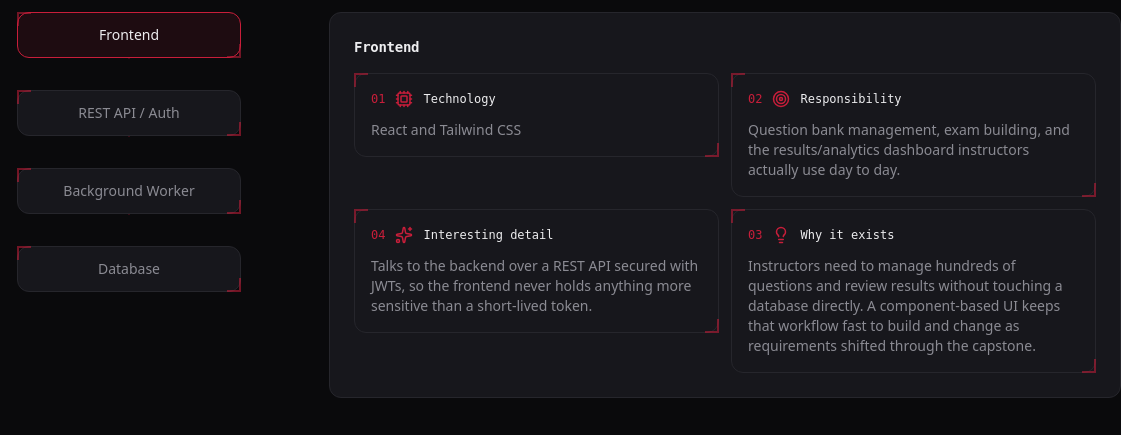
Test: ArchitectureMap › updates the detail panel when a different node is clicked
This screenshot has width=1121, height=435.
What coordinates should you click on to do the following:
click the button "REST API / Auth"
I would click on:
 (129, 113)
Its box is [17, 90, 241, 136].
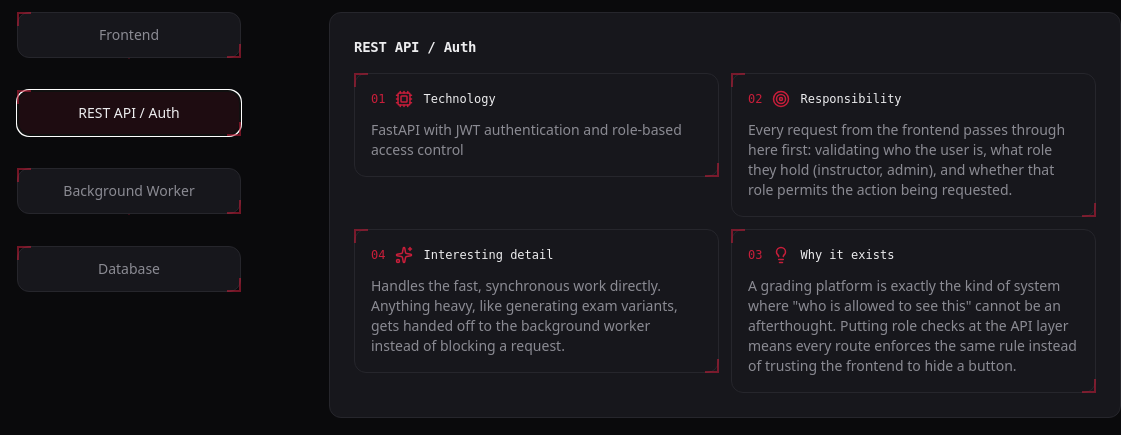
expect the text "FastAPI with JWT authentication and role-based access control" is shown: met, box [371, 120, 702, 160]
expect the text "Every request from the frontend passes through here first: validating who the user is, what role they hold (instructor, " is shown: met, box [748, 120, 1065, 199]
expect the text "A grading platform is exactly the kind of system where \"who is allowed to see this\" cannot be an afterthought. Putting r" is shown: met, box [748, 276, 1077, 375]
